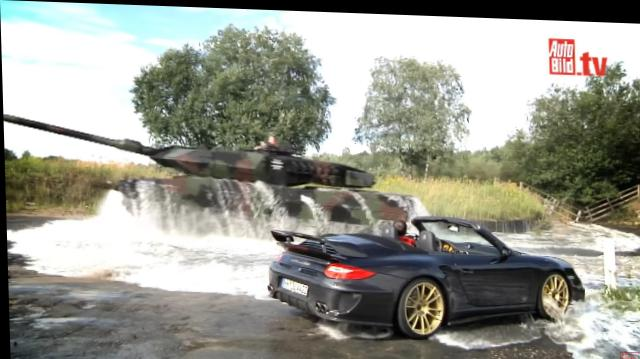tank: (114, 144, 408, 228)
